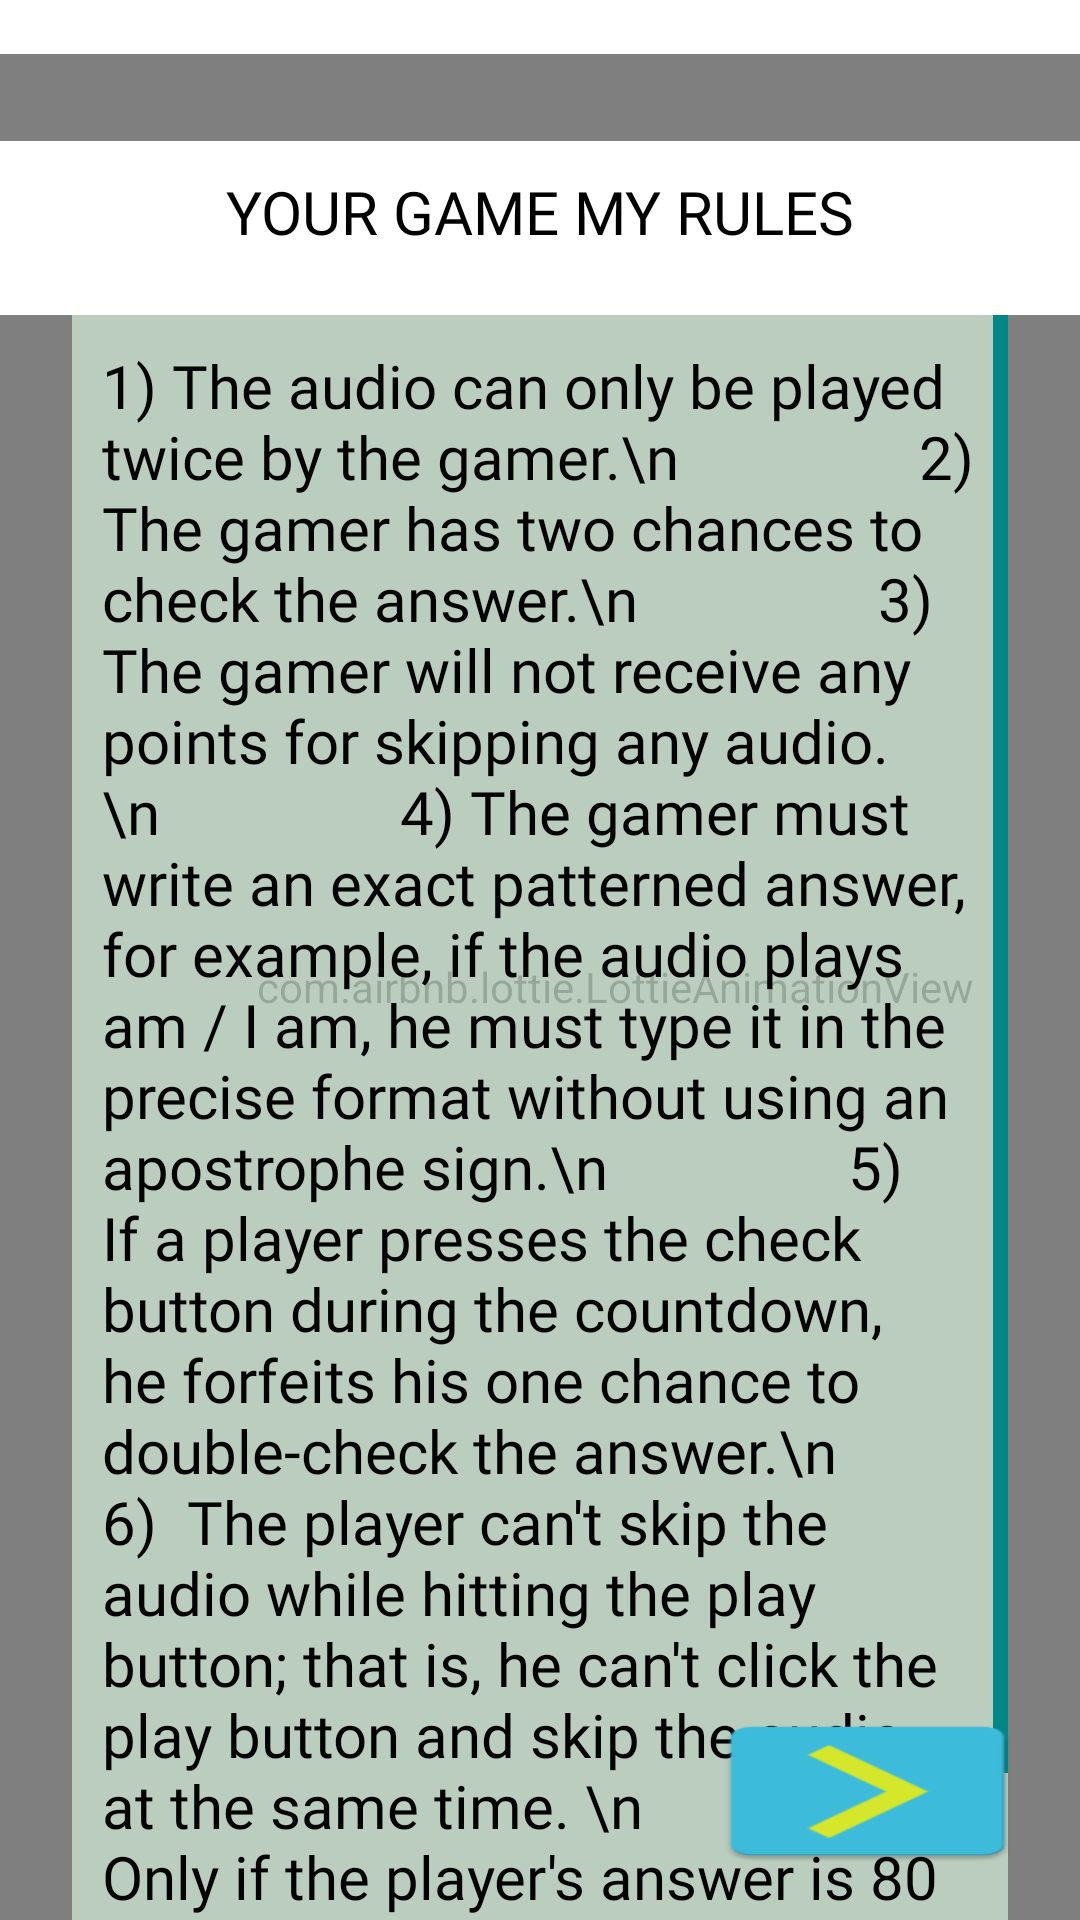

Icons on this 1080px x 1920px Android screen, each with its box as (x1, y1, x2, y2):
next: (695, 1710, 1040, 1872)
